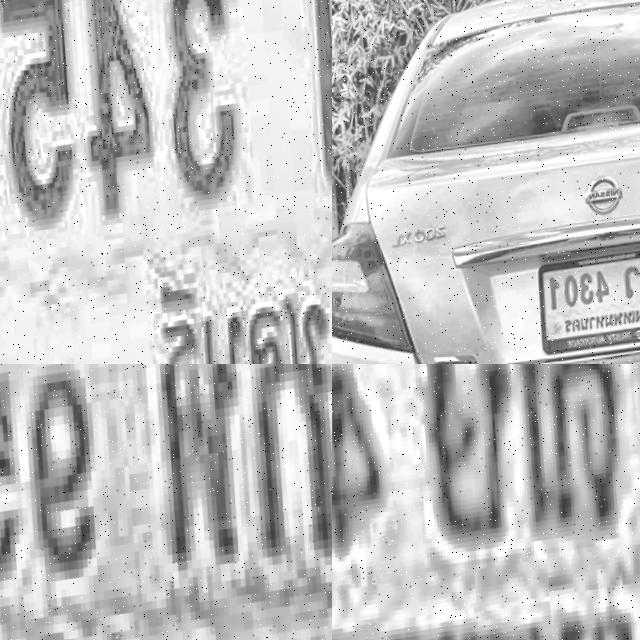license-plate: (0, 0, 332, 364), (0, 364, 332, 640), (332, 364, 640, 640), (533, 244, 640, 360)
